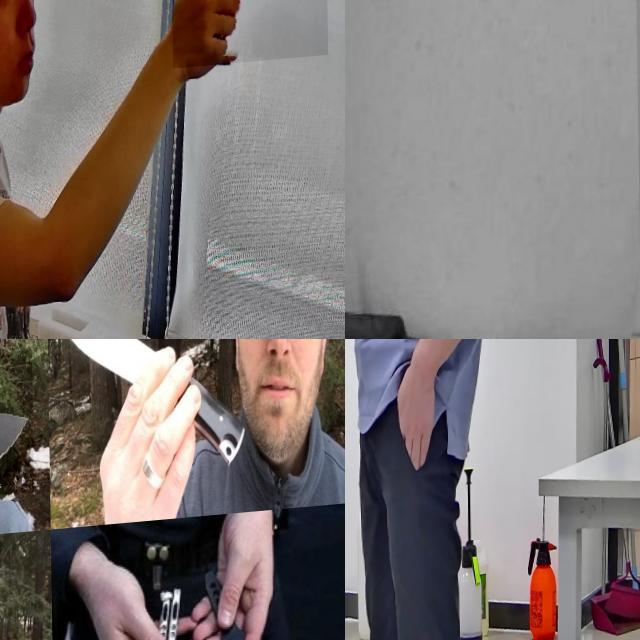-: (0, 355, 114, 513), (51, 339, 192, 460), (199, 571, 280, 640), (129, 587, 182, 640)
gun-knife-thesis - v11 Yolov5 augmented: (170, 0, 327, 92), (345, 339, 382, 410)
